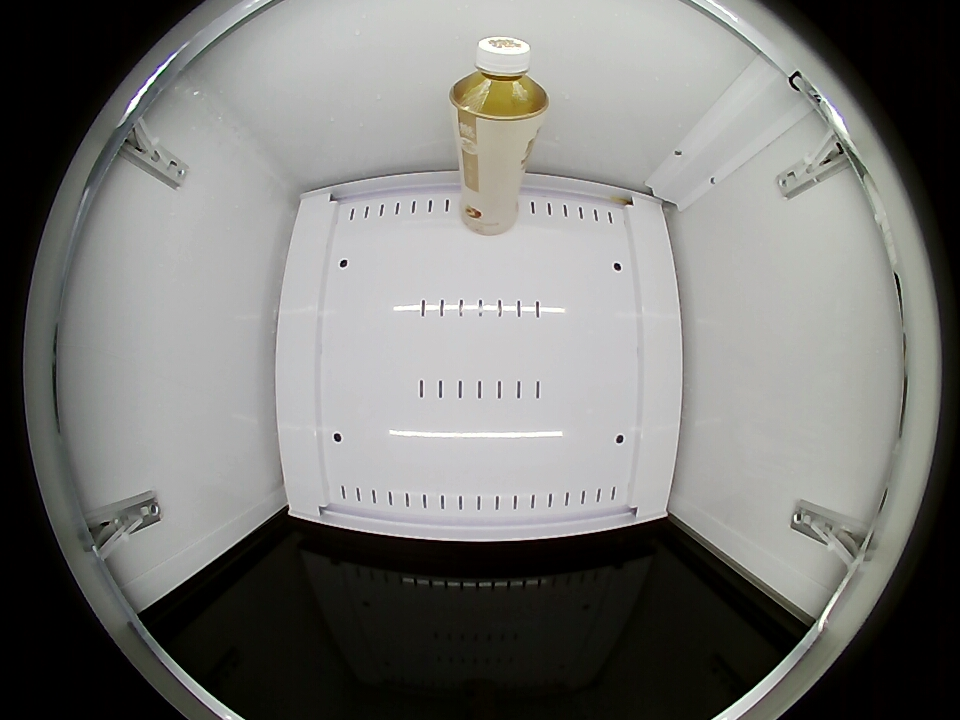rancha-2: (450, 35, 548, 128)
